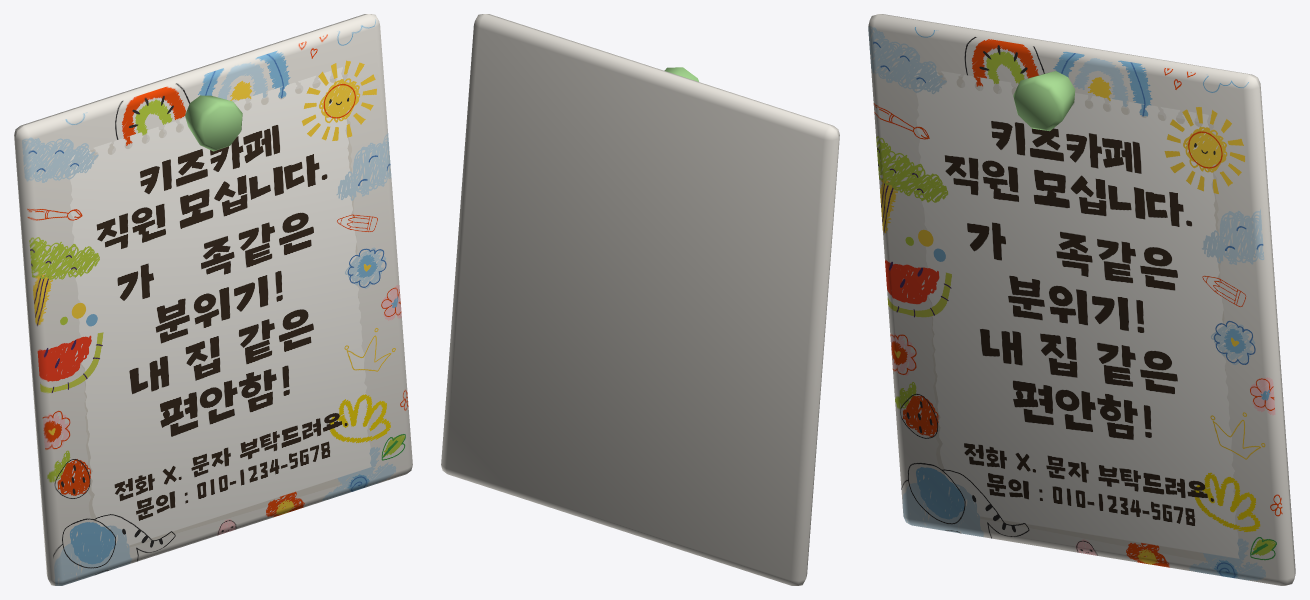
File: KidsMemo.glb
3 views of the same model, side by side, from view 1: azimuth 30°, elevation 25°; view 2: azimuth 150°, elevation 25°; view 3: azimuth 330°, elevation 25° (orthographic). The views are drawn at different scales.
Parts seen in each view (by area): view 1: Kids; view 2: Kids; view 3: Kids.
Part boxes in pixels (<box>): Kids: <box>14,14,412,585</box>; Kids: <box>441,14,839,585</box>; Kids: <box>868,14,1295,585</box>.
Bounding box in the file's own units: 1.92 × 2.29 × 0.2631.
Materials: 2 (1 with a texture image).
